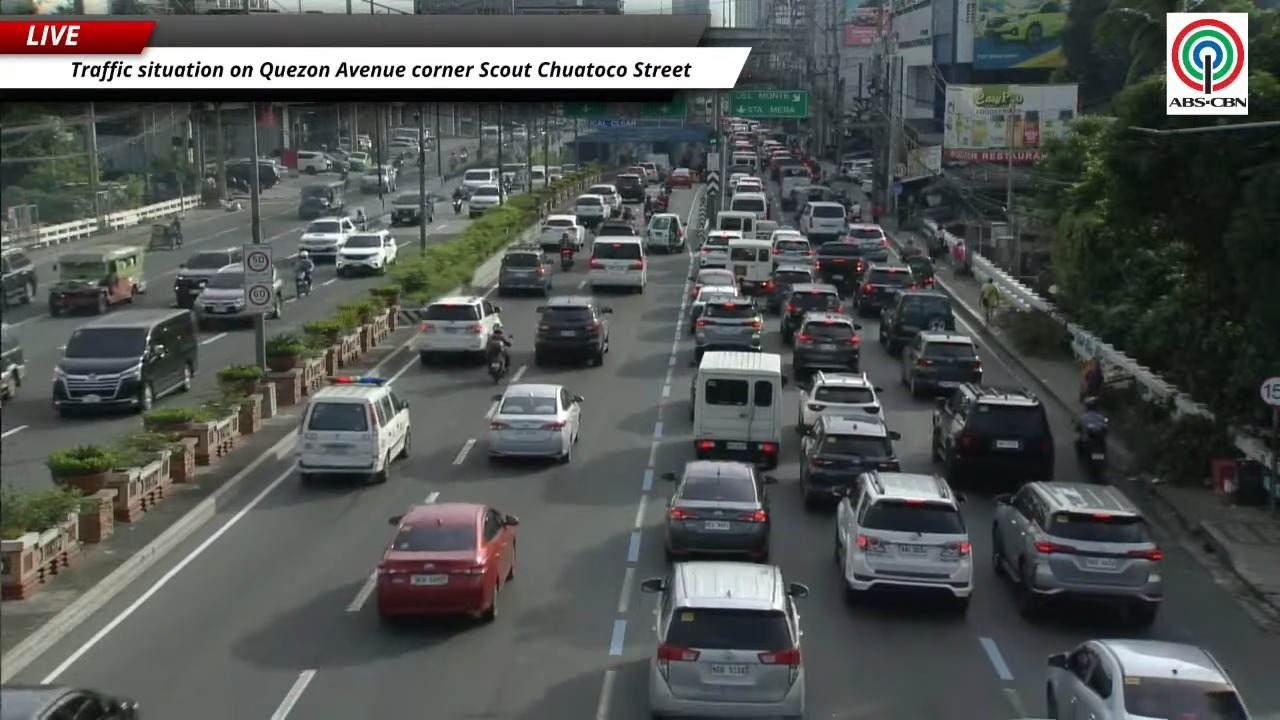car: (641, 561, 808, 719), (992, 482, 1162, 627), (835, 470, 972, 612), (374, 503, 517, 621), (1046, 640, 1253, 719), (52, 309, 199, 417), (931, 383, 1054, 484), (295, 376, 410, 483), (662, 460, 774, 561), (799, 413, 899, 508), (487, 383, 583, 462), (411, 295, 501, 364), (534, 295, 612, 365), (901, 331, 982, 396), (797, 371, 882, 432), (878, 288, 956, 354), (0, 684, 137, 719), (792, 312, 861, 380), (173, 246, 242, 308), (192, 264, 257, 329), (694, 298, 762, 360), (982, 0, 1067, 45), (780, 282, 841, 344), (588, 235, 646, 292), (852, 263, 913, 316), (335, 229, 398, 277), (813, 242, 866, 295), (496, 246, 552, 296), (299, 217, 357, 263), (688, 286, 742, 335), (765, 264, 814, 312), (0, 248, 37, 307), (0, 323, 26, 401), (799, 201, 846, 243), (844, 223, 888, 262), (770, 229, 814, 266), (690, 268, 739, 300), (645, 213, 684, 253), (542, 214, 585, 250), (698, 232, 742, 267), (390, 193, 433, 225), (574, 193, 610, 228), (467, 185, 502, 218), (459, 168, 500, 196), (585, 183, 622, 214), (360, 164, 397, 193), (615, 173, 647, 202), (296, 151, 332, 174), (596, 221, 639, 238), (733, 177, 763, 194), (667, 168, 693, 187), (727, 172, 751, 192), (639, 161, 660, 183)
motorcycle: (1074, 421, 1108, 482), (487, 352, 510, 384), (488, 357, 505, 383), (295, 273, 311, 297), (560, 247, 574, 270), (643, 205, 655, 223), (657, 197, 668, 211), (453, 198, 462, 213)
